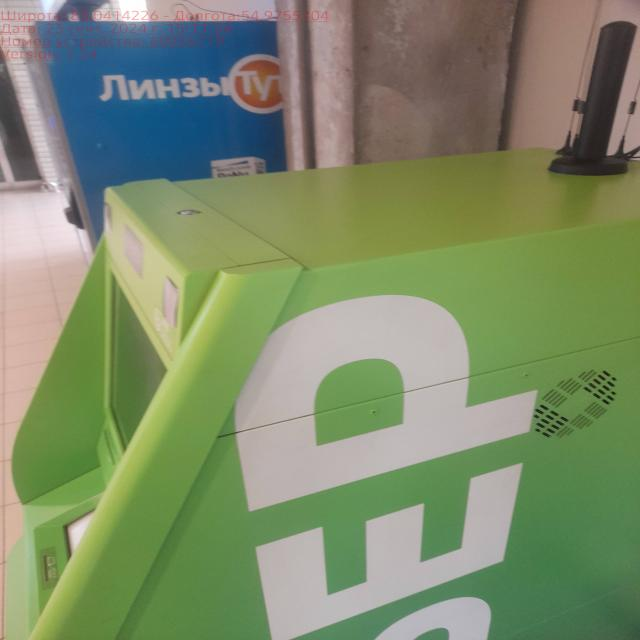bank: (8, 153, 640, 640)
